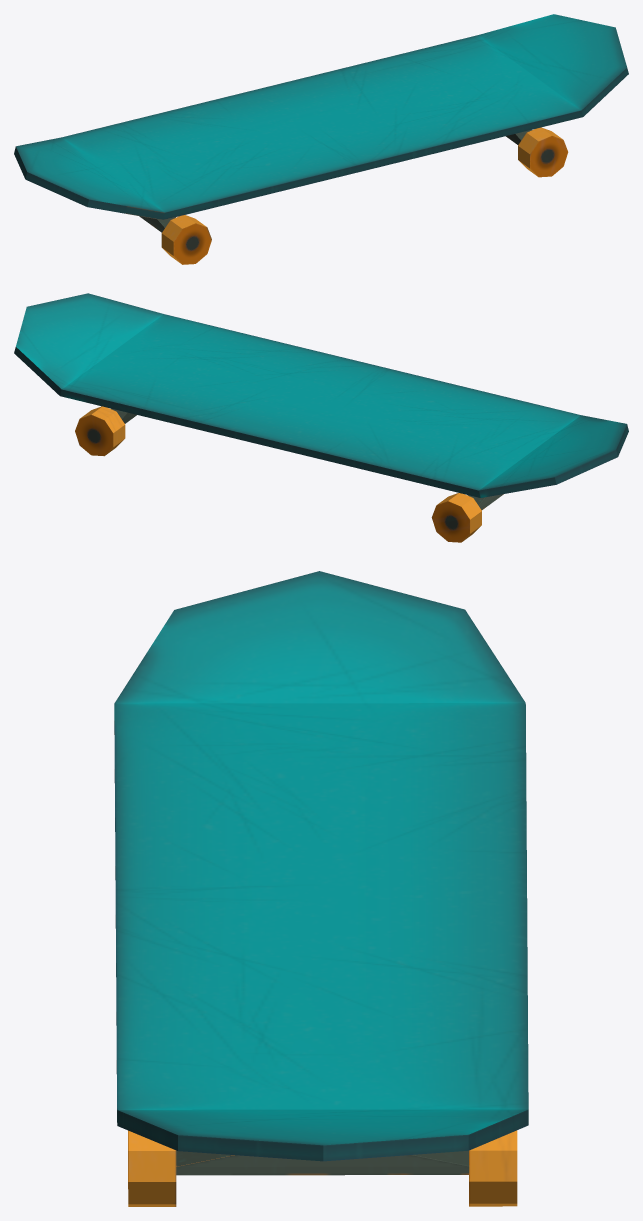
The model's file is Mini_skateboard_texture.fbx.
The picture shows the model from 3 angles, top to bottom: view 1: azimuth 30°, elevation 25°; view 2: azimuth 150°, elevation 25°; view 3: azimuth 270°, elevation 25°; orthographic projection. The views are drawn at different scales.
Parts seen in each view (by area): view 1: Skateboard; view 2: Skateboard; view 3: Skateboard.
Boxes of the visible parts, bbox=[...] form: Skateboard: bbox=[14, 14, 628, 264]; Skateboard: bbox=[14, 293, 628, 542]; Skateboard: bbox=[114, 571, 528, 1206].
Bounding box in the file's own units: 6.07 × 0.8388 × 1.84.
Materials: 1 (1 with a texture image).
